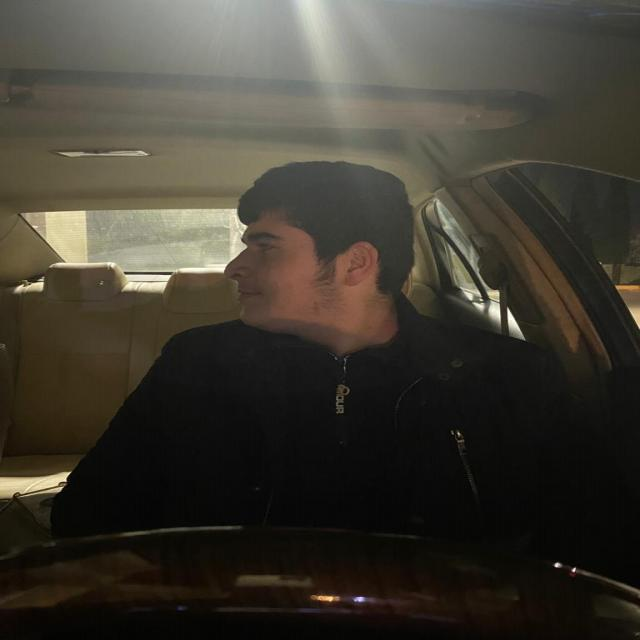LeftRight: (217, 169, 415, 324)
